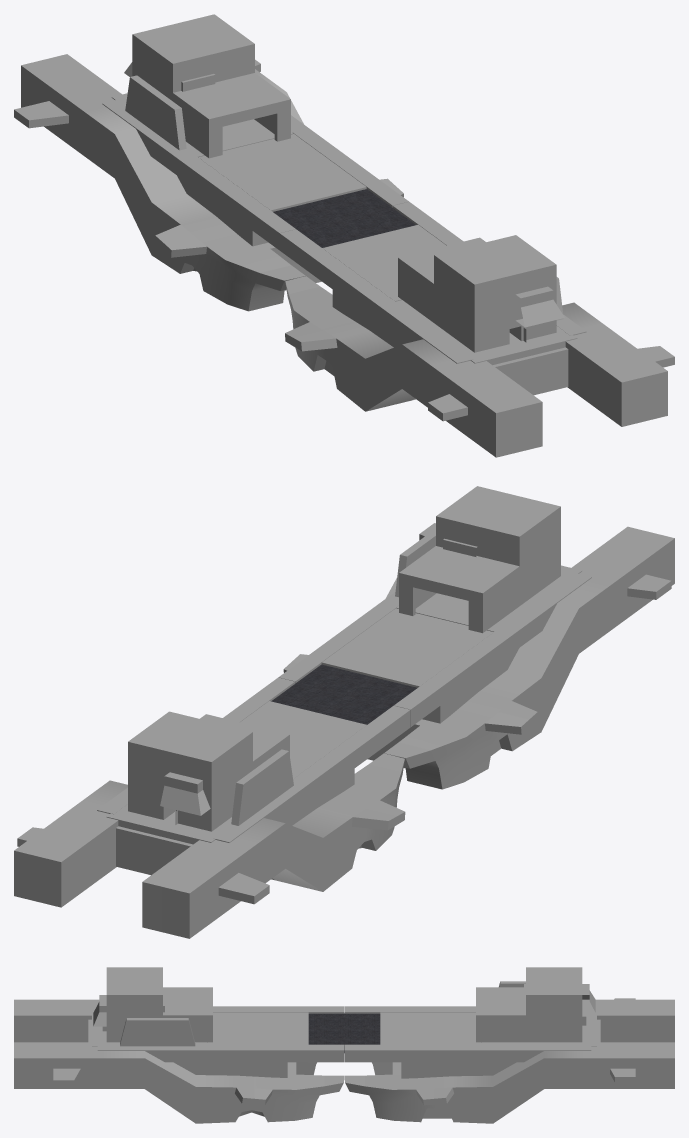
The model's file is Spaceship_mdl.fbx.
The picture shows the model from 3 angles, top to bottom: view 1: azimuth 30°, elevation 25°; view 2: azimuth 150°, elevation 25°; view 3: azimuth 270°, elevation 25°; orthographic projection. The views are drawn at different scales.
Parts seen in each view (by area): view 1: Spaceship_mdl; view 2: Spaceship_mdl; view 3: Spaceship_mdl.
Boxes of the visible parts, x1,y1,x2,y2 form: Spaceship_mdl: [14, 14, 674, 457]; Spaceship_mdl: [14, 486, 674, 938]; Spaceship_mdl: [14, 967, 674, 1123].
Size of the model in its own units: 633 by 407 by 2150.
